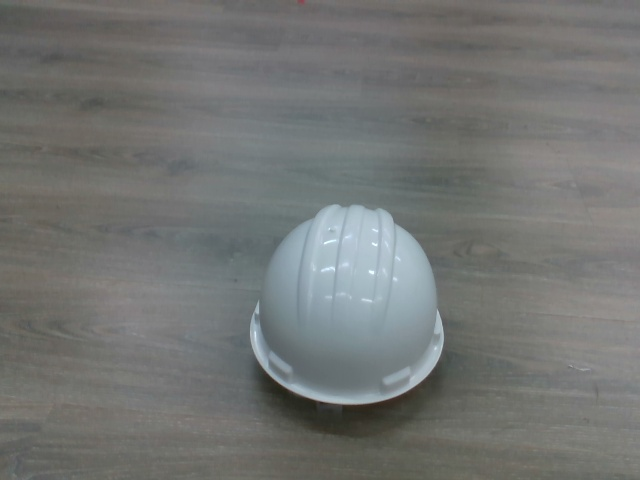helmet: (245, 199, 449, 410)
